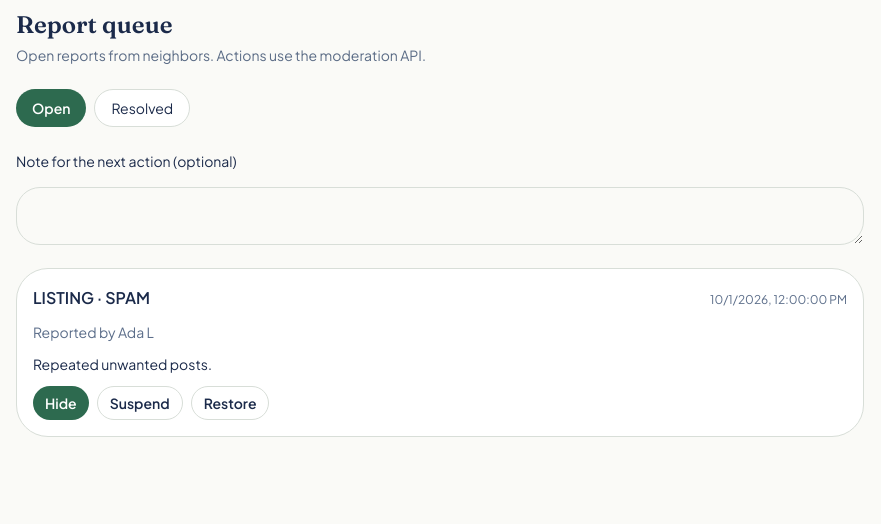
it: report queue › hides, and shows the API error when an action is rejected
Expected: the text "Repeated unwanted posts." is shown, x1=33 y1=355 x2=212 y2=373
Expected: the text "Reported by Ada L" is shown, x1=33 y1=323 x2=154 y2=341
What coordinates should you click on to do the following:
click the button "Hide"
I would click on:
 (61, 403)
Its box is x1=33 y1=386 x2=89 y2=420.
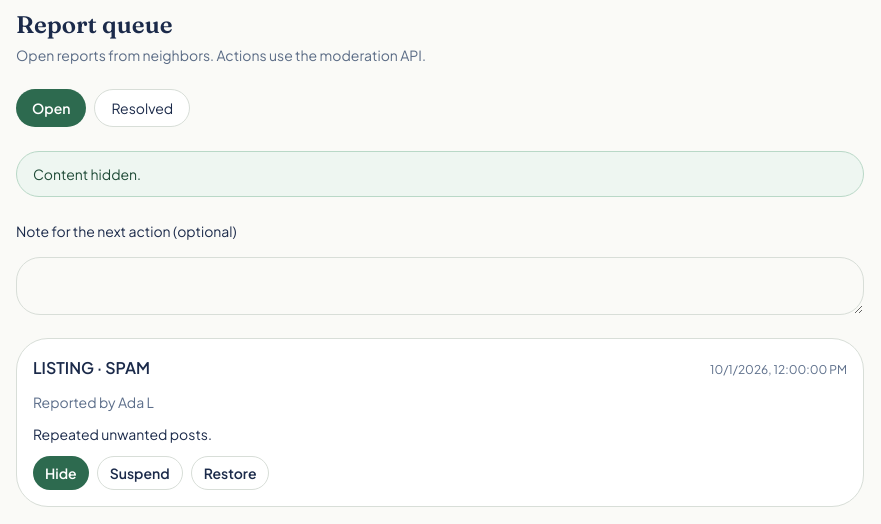
Now the text "Content hidden." is shown, box x1=16 y1=151 x2=864 y2=197
What coordinates should you click on to do the following:
click the button "Suspend"
I would click on:
 (140, 473)
Its box is x1=97 y1=456 x2=183 y2=490.
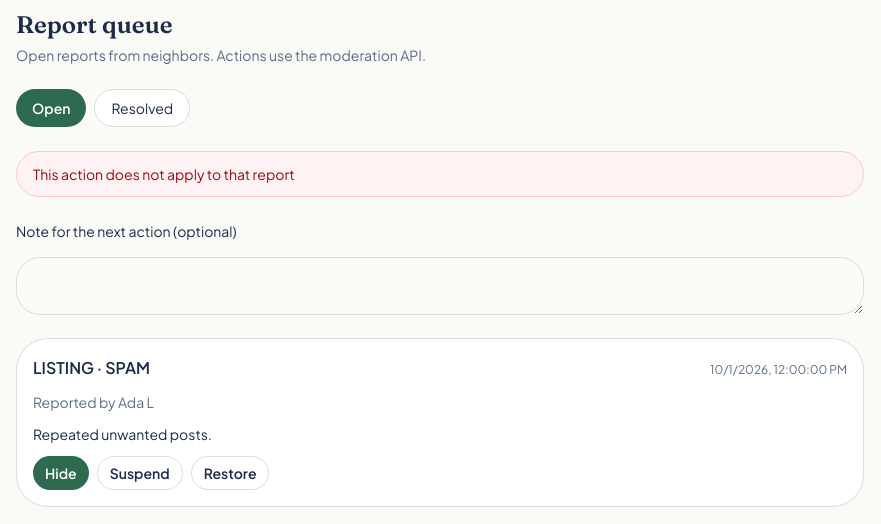
Now the text "This action does not apply to that report" is shown, box x1=16 y1=151 x2=864 y2=197
